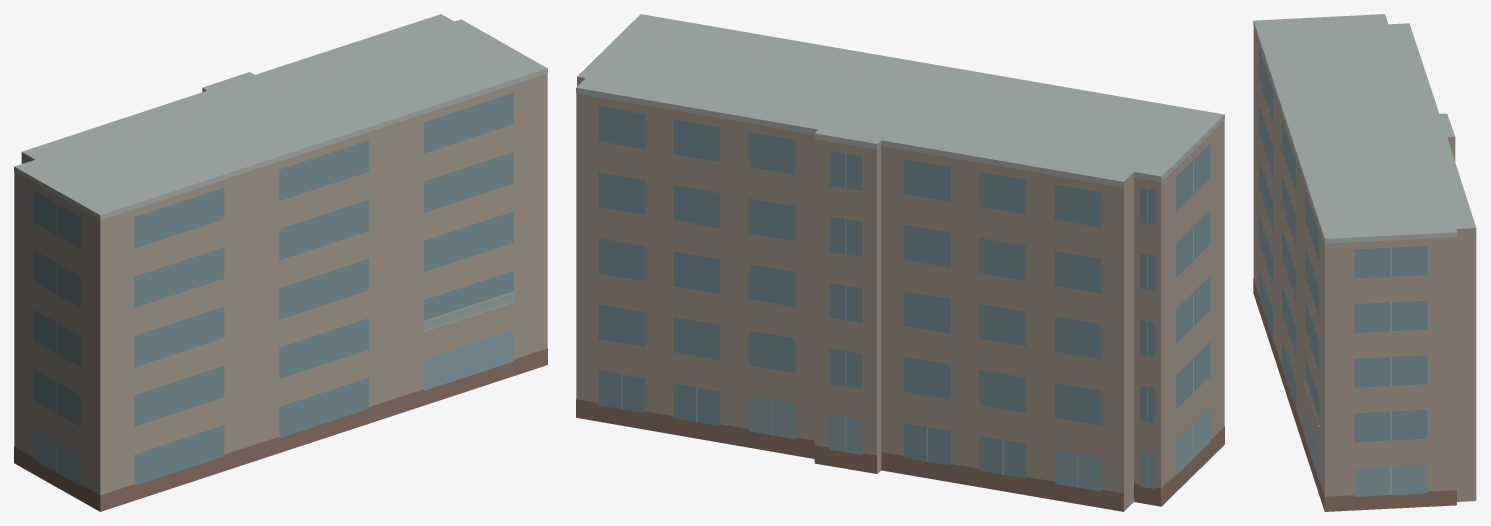
Rendered from survey-upis-33035030.glb.
3 views of the same model, side by side, from view 1: azimuth 30°, elevation 25°; view 2: azimuth 150°, elevation 25°; view 3: azimuth 270°, elevation 25° (orthographic). The views are drawn at different scales.
Parts seen in each view (by area): view 1: survey-upis-33035030.tmp; view 2: survey-upis-33035030.tmp; view 3: survey-upis-33035030.tmp.
Boxes of the visible parts, bbox=[...] form: survey-upis-33035030.tmp: bbox=[14, 14, 547, 511]; survey-upis-33035030.tmp: bbox=[576, 14, 1224, 511]; survey-upis-33035030.tmp: bbox=[1253, 14, 1476, 511].
Bounding box in the file's own units: 25.14 × 14.22 × 10.53.
